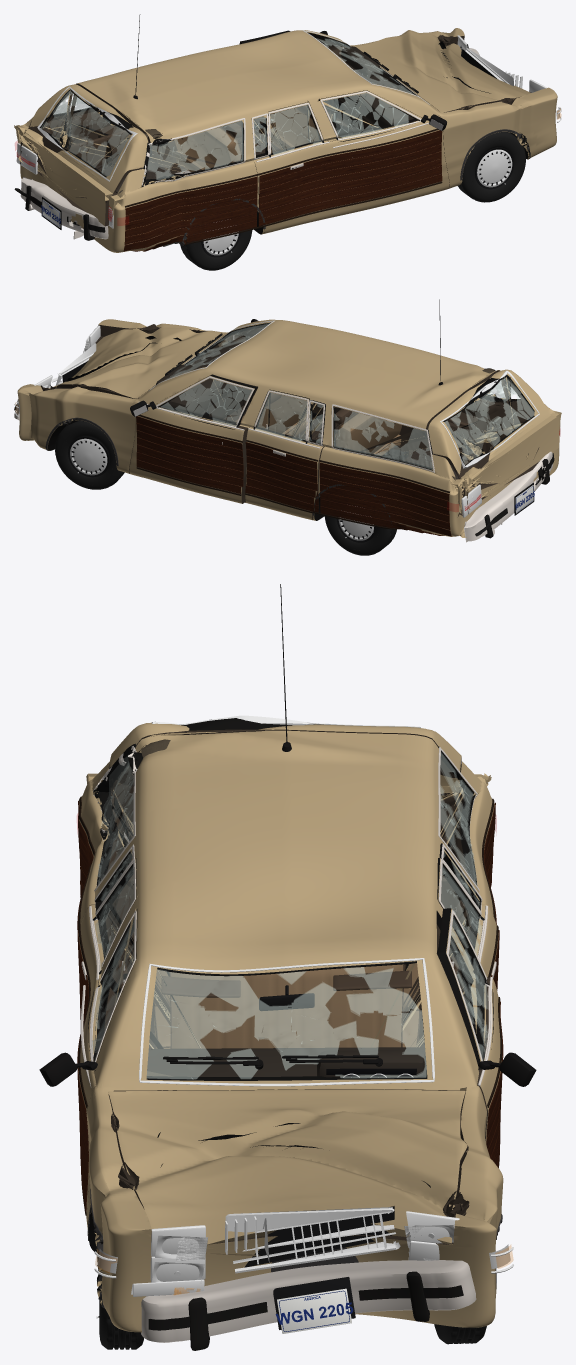
The model's file is wagon82_front_d1.glb.
3 views of the same model, one above another, from view 1: azimuth 30°, elevation 25°; view 2: azimuth 150°, elevation 25°; view 3: azimuth 270°, elevation 25° (orthographic). The views are drawn at different scales.
Visible parts, largest first — view 1: Body, Trim, Interior, Tailgate, Trim_FR, Hood, Trim_RR, Glass, Glass_Tailgate, Wheel_FR_mesh, Door_FR, Glass_FR (+5 smaller); view 2: Body, Trim, Interior, Tailgate, Trim_FL, Hood, Trim_RL, Glass_Tailgate, Glass, Door_FL, Wheel_FL_mesh, Bumper_R (+5 smaller); view 3: Body, Hood, Interior, Glass, Ends, Bumper_F, Tailgate, Trim, Door_FL, Trim_FL, Trim_FR, Door_FR (+9 smaller).
Part boxes in pixels (x1,y1,x2,y2): Body: [14, 28, 557, 252]; Trim: [73, 14, 530, 251]; Interior: [69, 46, 413, 193]; Tailgate: [18, 84, 148, 226]; Trim_FR: [320, 90, 446, 208]; Hood: [355, 30, 530, 112]; Trim_RR: [251, 103, 334, 226]; Glass: [53, 30, 429, 187]; Glass_Tailgate: [37, 86, 137, 181]; Wheel_FR_mesh: [457, 132, 525, 202]; Door_FR: [319, 90, 449, 216]; Glass_FR: [323, 90, 420, 141]; Body: [17, 319, 561, 537]; Trim: [45, 299, 502, 536]; Interior: [156, 341, 512, 516]; Tailgate: [428, 369, 559, 513]; Trim_FL: [130, 376, 254, 495]; Hood: [48, 327, 225, 398]; Trim_RL: [245, 390, 324, 513]; Glass_Tailgate: [440, 370, 539, 468]; Glass: [149, 320, 517, 469]; Door_FL: [129, 374, 257, 503]; Wheel_FL_mesh: [55, 420, 124, 489]; Bumper_R: [464, 451, 554, 542]; Body: [79, 730, 503, 1332]; Hood: [108, 1089, 468, 1245]; Interior: [147, 924, 436, 1077]; Glass: [93, 743, 477, 1086]; Ends: [94, 812, 513, 1333]; Bumper_F: [141, 1260, 476, 1350]; Tailgate: [108, 718, 462, 882]; Trim: [77, 584, 502, 1308]; Door_FL: [437, 908, 502, 1143]; Trim_FL: [446, 909, 536, 1167]; Trim_FR: [39, 910, 136, 1215]; Door_FR: [78, 909, 137, 1229].
Bounding box in the file's own units: 4.69 × 2.18 × 2.14.
35 materials, 6 textured.
